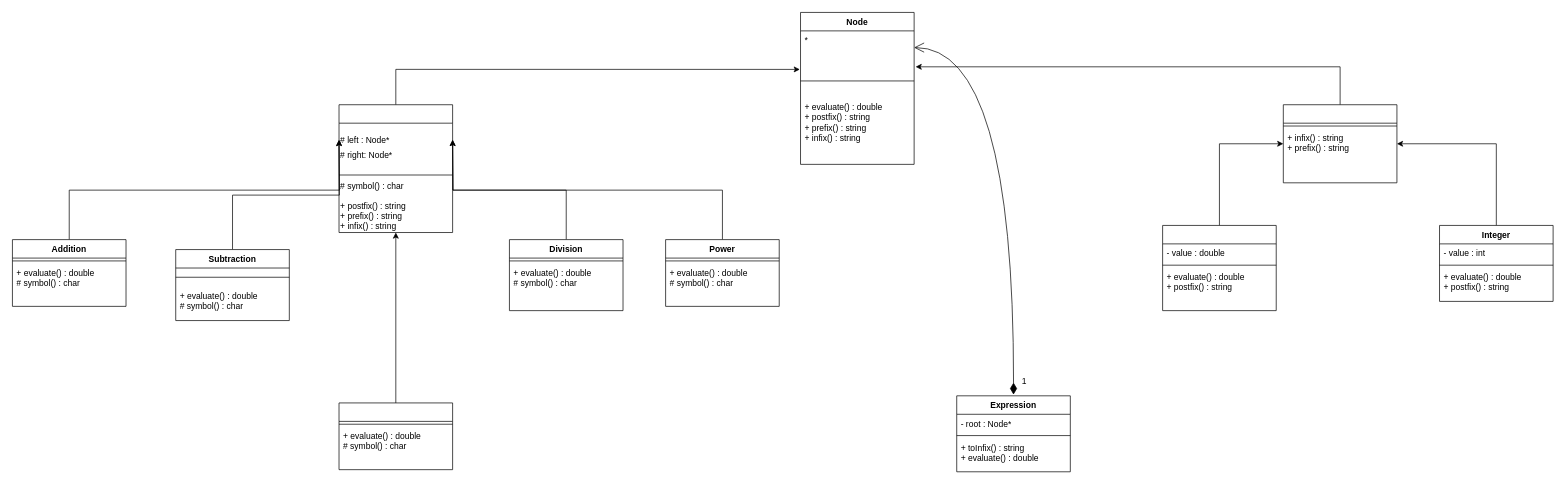
The diagram is 1566 pixels wide and 486 high, and some of its shapes have lost their labels. The shapes that lost their labels are listed below. From the top down, each one's box as (x1, y1, x2, y2) in pixels, then its label:
(1283, 104, 1397, 183): Operand
(338, 104, 453, 233): Operator
(1162, 225, 1276, 311): Real
(338, 402, 453, 470): Multiplication
